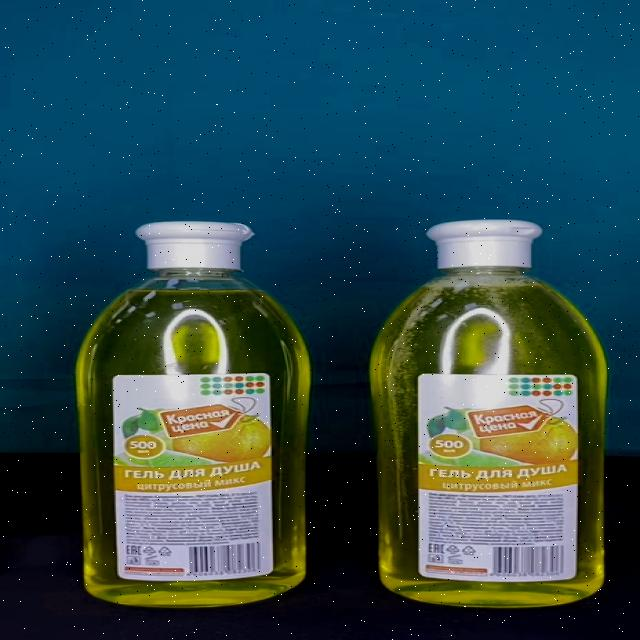Bottle: (368, 220, 608, 607), (74, 221, 312, 608)
Cap: (134, 222, 254, 270), (427, 220, 544, 268)
